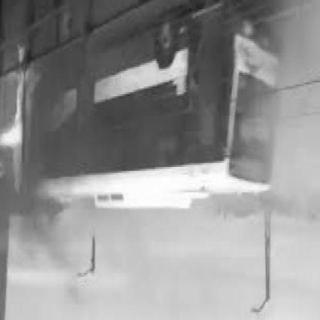Fire: (5, 38, 29, 215)
